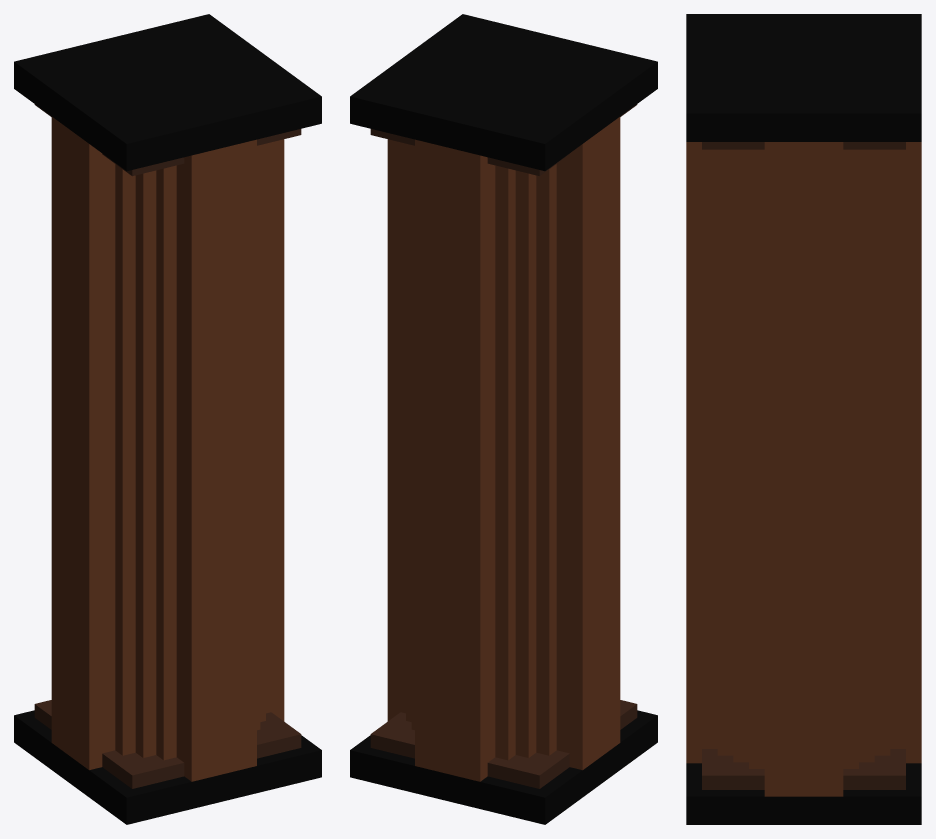
File: Corner-Wood-Model-01.fbx
3 views of the same model, side by side, from view 1: azimuth 30°, elevation 25°; view 2: azimuth 150°, elevation 25°; view 3: azimuth 270°, elevation 25° (orthographic). The views are drawn at different scales.
Parts seen in each view (by area): view 1: Corner-Wood-Model-01; view 2: Corner-Wood-Model-01; view 3: Corner-Wood-Model-01.
Boxes of the visible parts, left/top/right/bottom form: Corner-Wood-Model-01: left=14, top=14, right=321, bottom=824; Corner-Wood-Model-01: left=350, top=14, right=657, bottom=824; Corner-Wood-Model-01: left=686, top=14, right=921, bottom=824.
Bounding box in the file's own units: 15 × 50 × 15.
Materials: 1 (1 with a texture image).
